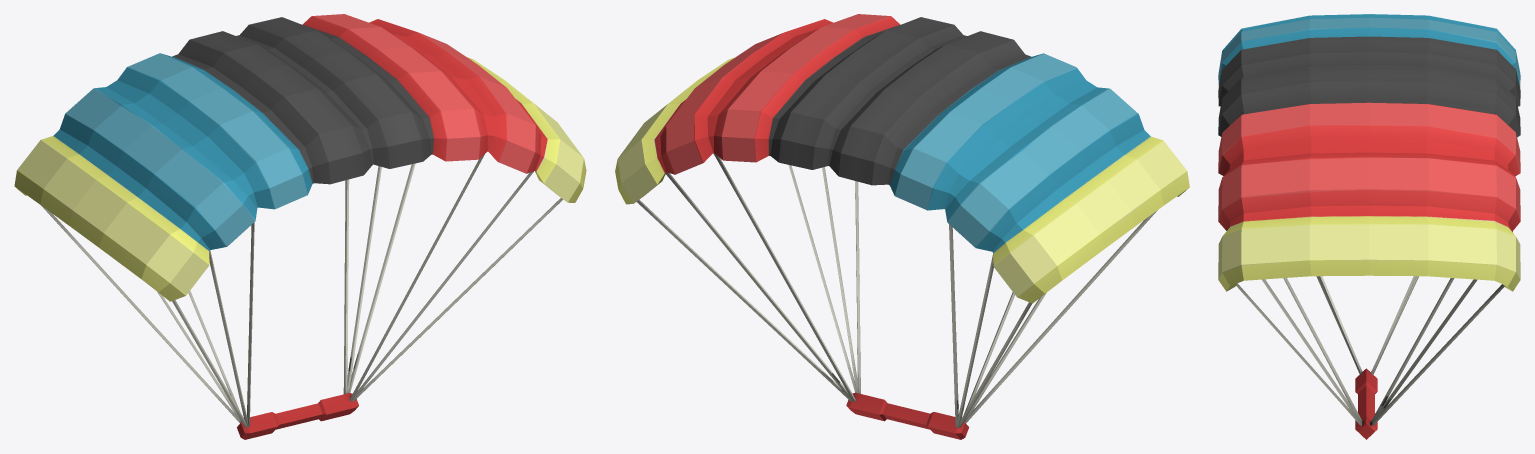
The model's file is parachute.gltf.
3 views of the same model, side by side, from view 1: azimuth 30°, elevation 25°; view 2: azimuth 150°, elevation 25°; view 3: azimuth 270°, elevation 25° (orthographic).
Visible parts, largest first — view 1: Parachute_mesh; view 2: Parachute_mesh; view 3: Parachute_mesh.
Part boxes in pixels (x1=…): Parachute_mesh: x1=14, y1=14, x2=586, y2=439; Parachute_mesh: x1=615, y1=14, x2=1189, y2=439; Parachute_mesh: x1=1218, y1=14, x2=1520, y2=439.
Size of the model in its own units: 9.11 by 6.83 by 5.22.
Materials: 1 (1 with a texture image).
